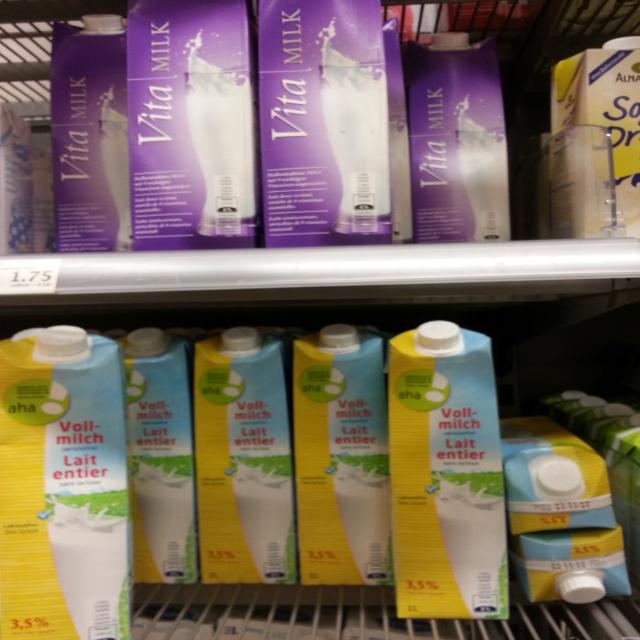Milk: (0, 325, 131, 640), (390, 318, 511, 620), (252, 0, 393, 247), (127, 0, 257, 250), (195, 324, 299, 584), (291, 322, 391, 585), (405, 31, 511, 244), (51, 12, 131, 249), (554, 35, 640, 238), (498, 409, 618, 531)
